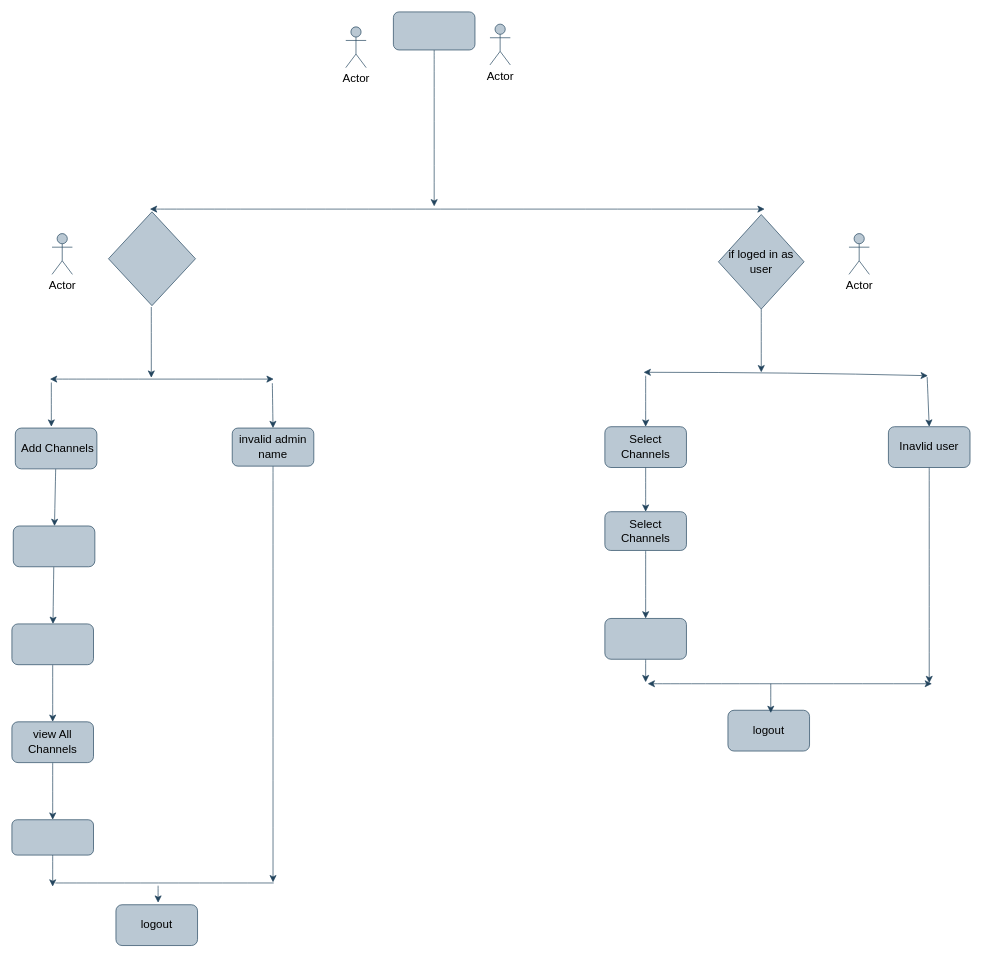
The diagram is 982 pixels wide and 957 high, and some of its shapes have lost their labels. Each missing label, with the centre of its shape:
Change Predefined Plan: (645,638)
if loged-in as admin: (152,258)
Modify Channel Price: (54,546)
Modify Discount: (52,644)
start: (434,30)
view user discounts: (52,837)
